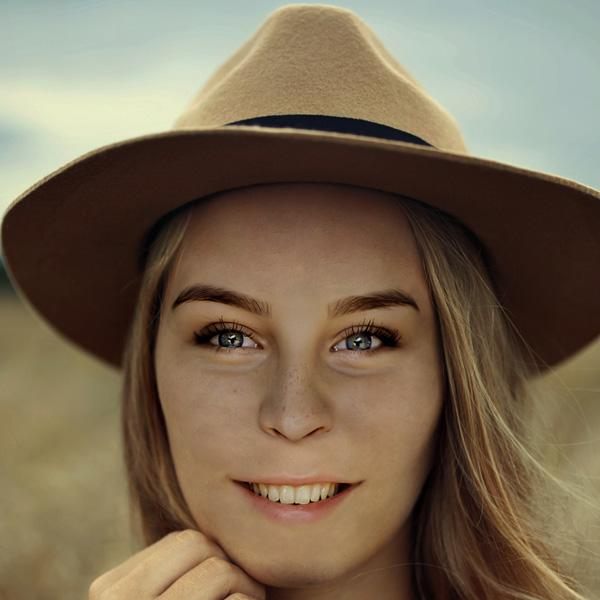Eyes: (321, 316, 407, 368), (188, 313, 268, 361)
